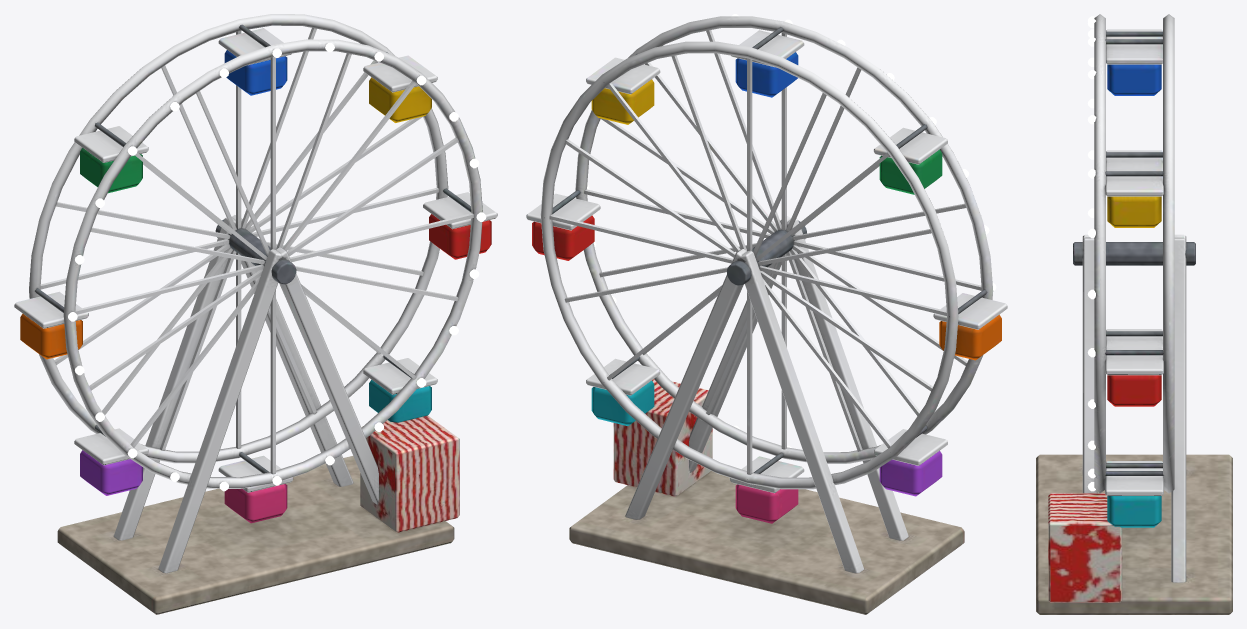
File: ferris_wheel.glb
The picture shows the model from 3 angles, left to right: view 1: azimuth 30°, elevation 25°; view 2: azimuth 150°, elevation 25°; view 3: azimuth 270°, elevation 25°; orthographic projection.
Parts seen in each view (by area): view 1: spinY_wheel, ferris_wheel; view 2: spinY_wheel, ferris_wheel; view 3: ferris_wheel, spinY_wheel.
Boxes of the visible parts, x1=… form: spinY_wheel: x1=14, y1=14, x2=497, y2=523; ferris_wheel: x1=57, y1=215, x2=459, y2=614; spinY_wheel: x1=526, y1=14, x2=1007, y2=523; ferris_wheel: x1=569, y1=216, x2=964, y2=614; ferris_wheel: x1=1036, y1=234, x2=1232, y2=614; spinY_wheel: x1=1087, y1=14, x2=1174, y2=527.
Size of the model in its own units: 2.12 by 2.33 by 0.8.
Materials: 1 (1 with a texture image).
